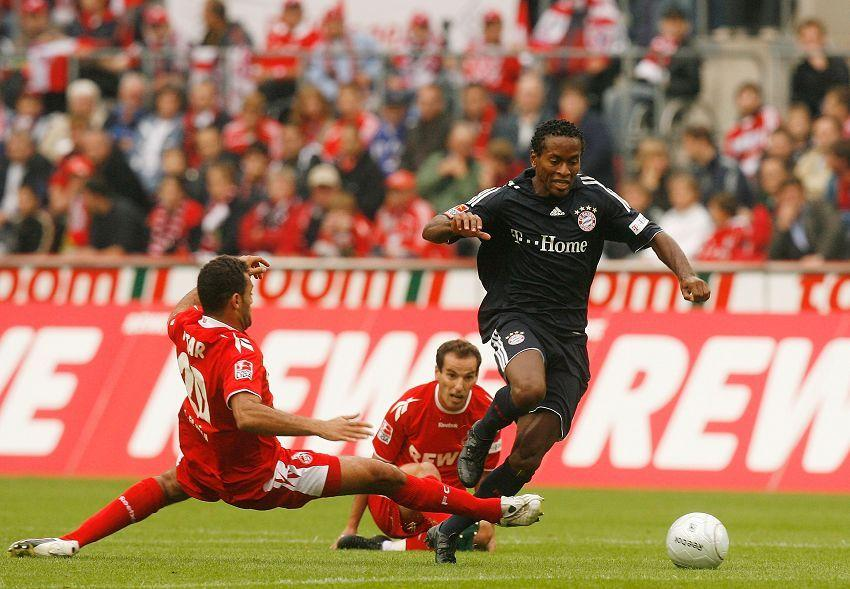bending: (342, 336, 510, 559)
down: (8, 251, 539, 547)
up: (445, 118, 712, 500)
